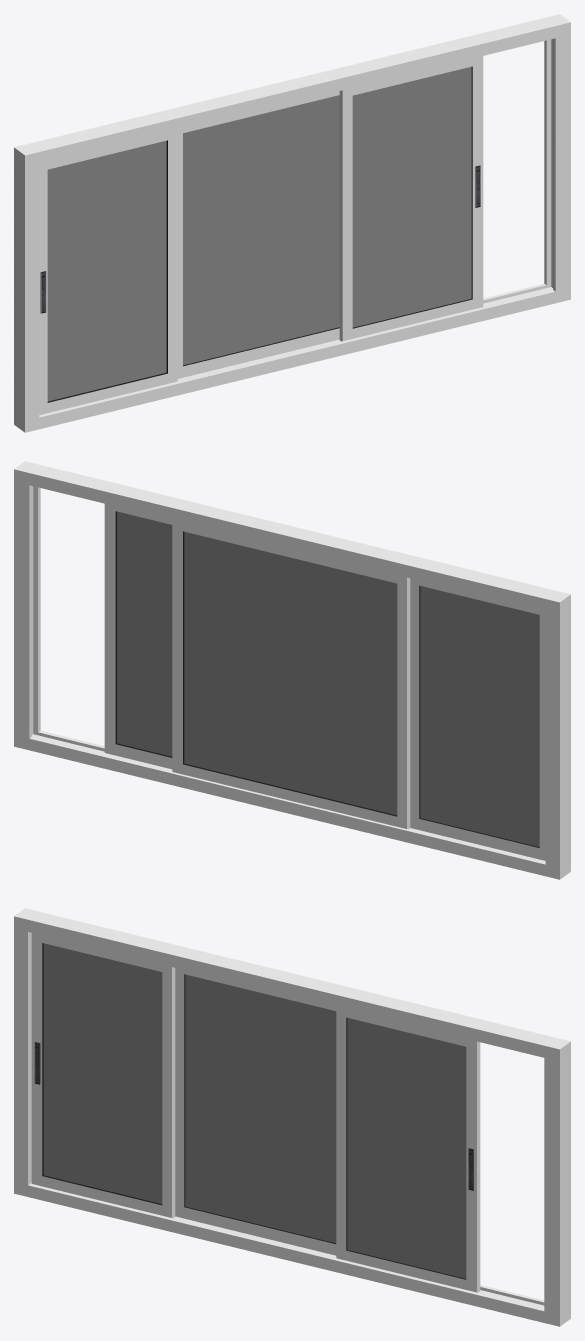
Rendered from Window.FBX.
3 views of the same model, one above another, from view 1: azimuth 30°, elevation 25°; view 2: azimuth 150°, elevation 25°; view 3: azimuth 330°, elevation 25° (orthographic).
Parts seen in each view (by area): view 1: window C, window B, window frame, window A; view 2: window C, window frame, window A, window B; view 3: window C, window B, window A, window frame.
Boxes of the visible parts, x1,y1,x2,y2 form: window C: (177,91,339,378); window B: (339,56,483,341); window frame: (14,14,570,432); window A: (39,130,177,414); window C: (172,520,410,828); window frame: (14,461,570,879); window A: (410,578,545,860); window B: (104,504,172,769); window C: (175,968,336,1255); window B: (336,1007,480,1292); window A: (31,933,175,1218); window frame: (14,908,570,1326).
Bounding box in the file's own units: 382 × 185 × 13.51.
Materials: 2 (1 with a texture image).
